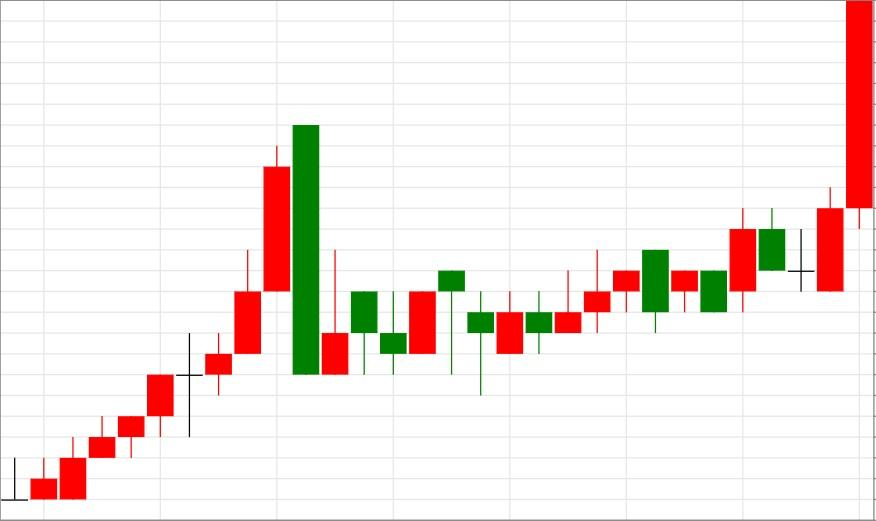bearish_engulfing_fall: (0, 124, 320, 502), (467, 249, 670, 394)
hanging_man_fall: (379, 269, 466, 374)
